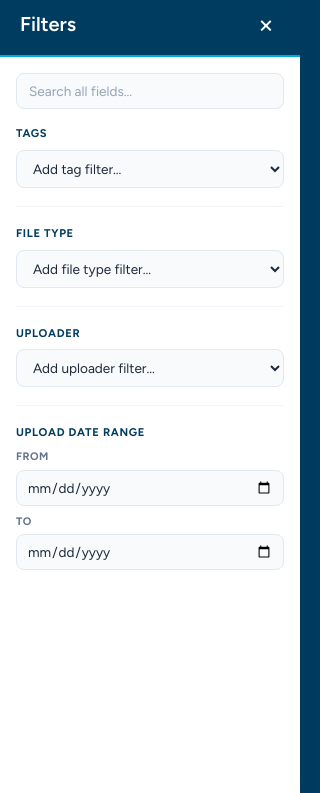
Test: FilterPanel — search input › shows a search chip in the active filters when a query is entered
Type "Vermont" into the search field with placeholder "Search all fields…" at (150, 91), box [16,73,284,109]
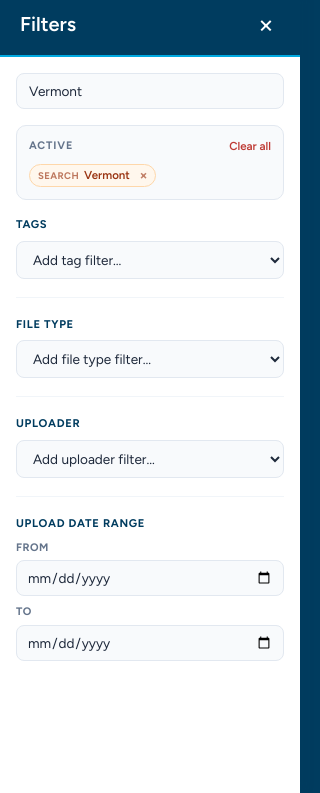
Check: the text "Search" is shown, box [38,171,79,180]
Check: the text "Vermont" is shown, box [84,170,130,181]
